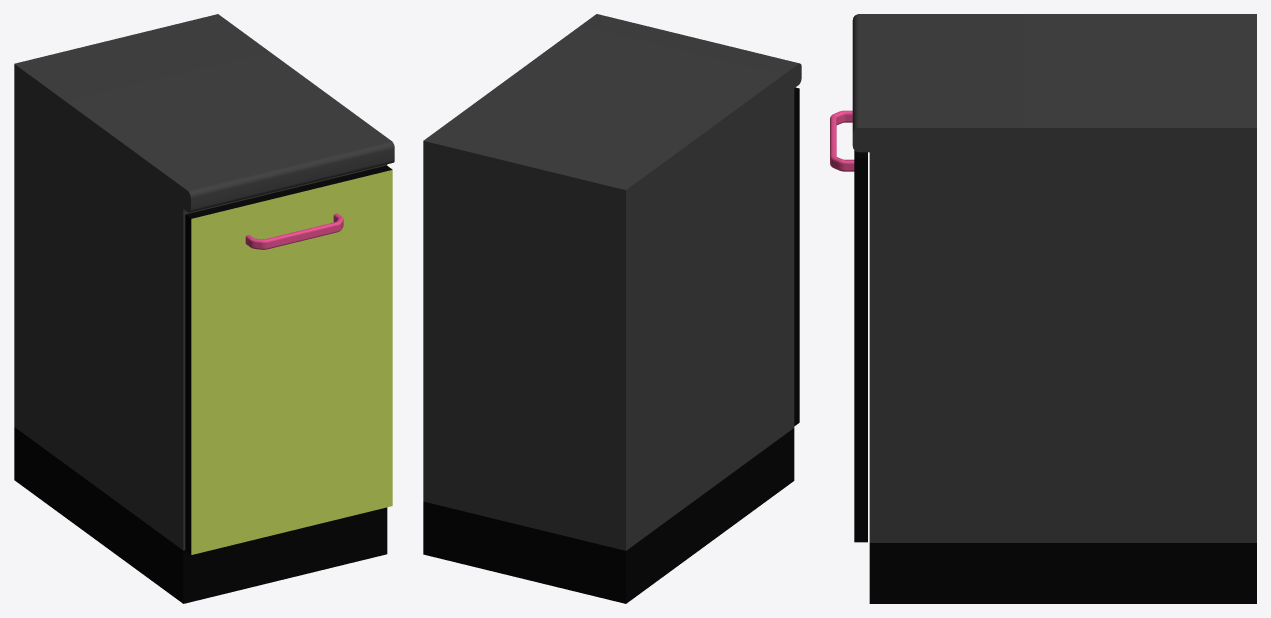
Rendered from singolo_cabinet.glb.
3 renders of one model, left to right at view 1: azimuth 30°, elevation 25°; view 2: azimuth 150°, elevation 25°; view 3: azimuth 270°, elevation 25°, orthographic. The views are drawn at different scales.
Parts seen in each view (by area): view 1: singolo; view 2: singolo; view 3: singolo.
Part boxes in pixels (bbox=[...]): singolo: bbox=[14, 14, 394, 603]; singolo: bbox=[423, 14, 801, 603]; singolo: bbox=[830, 14, 1256, 603].
Size of the model in its own units: 40 by 78 by 63.38.
